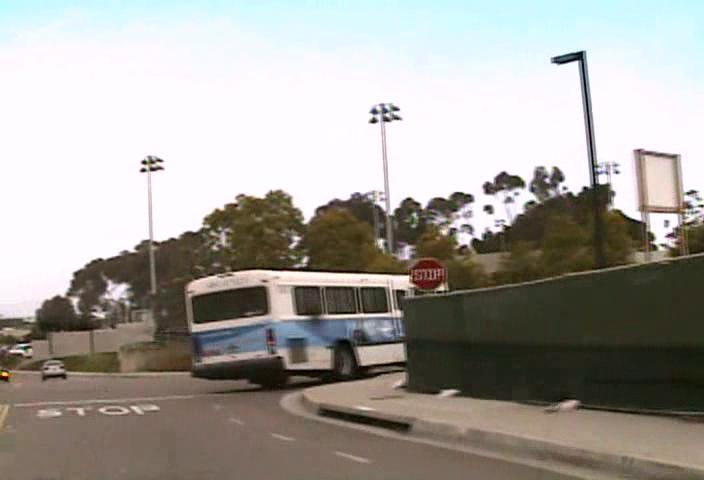stop: (409, 257, 447, 291)
